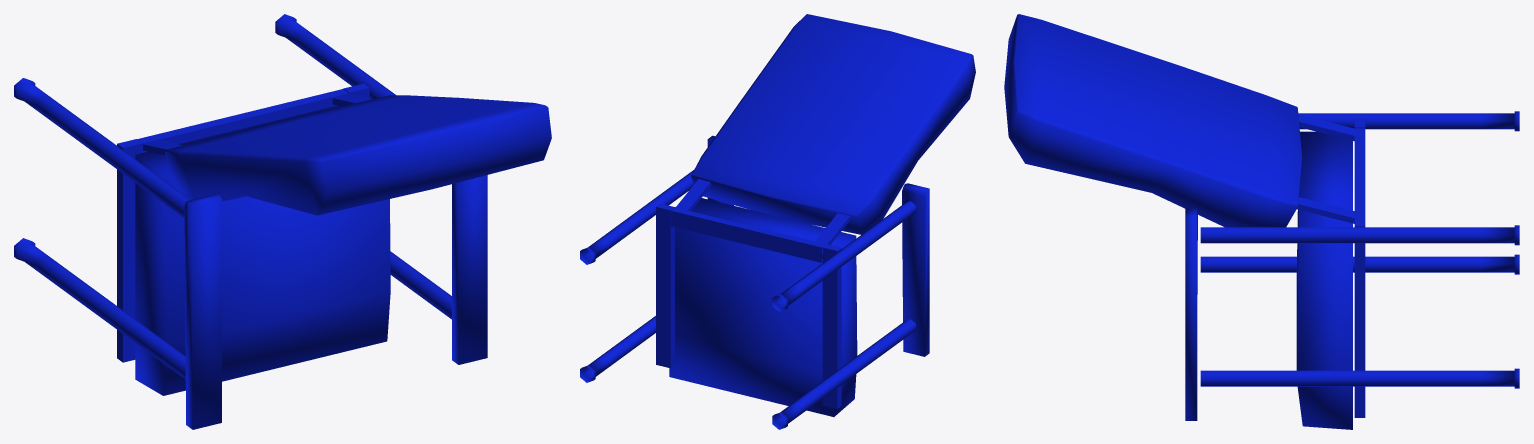
File: chair.obj
The picture shows the model from 3 angles, left to right: view 1: azimuth 30°, elevation 25°; view 2: azimuth 150°, elevation 25°; view 3: azimuth 270°, elevation 25°; orthographic projection. The views are drawn at different scales.
Parts seen in each view (by area): view 1: VisitorChair_Cube.003; view 2: VisitorChair_Cube.003; view 3: VisitorChair_Cube.003.
Part boxes in pixels (x1=…): VisitorChair_Cube.003: x1=14, y1=14, x2=551, y2=429; VisitorChair_Cube.003: x1=580, y1=14, x2=975, y2=429; VisitorChair_Cube.003: x1=1004, y1=14, x2=1519, y2=429.
Bounding box in the file's own units: 0.7003 × 0.8102 × 1.18.
